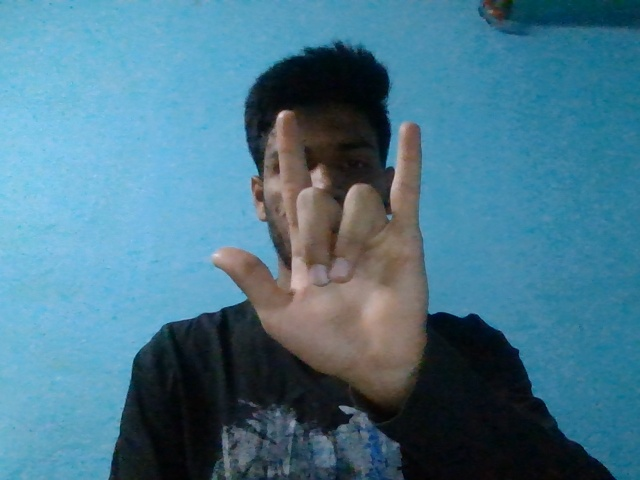I Love You: (210, 108, 428, 378)
